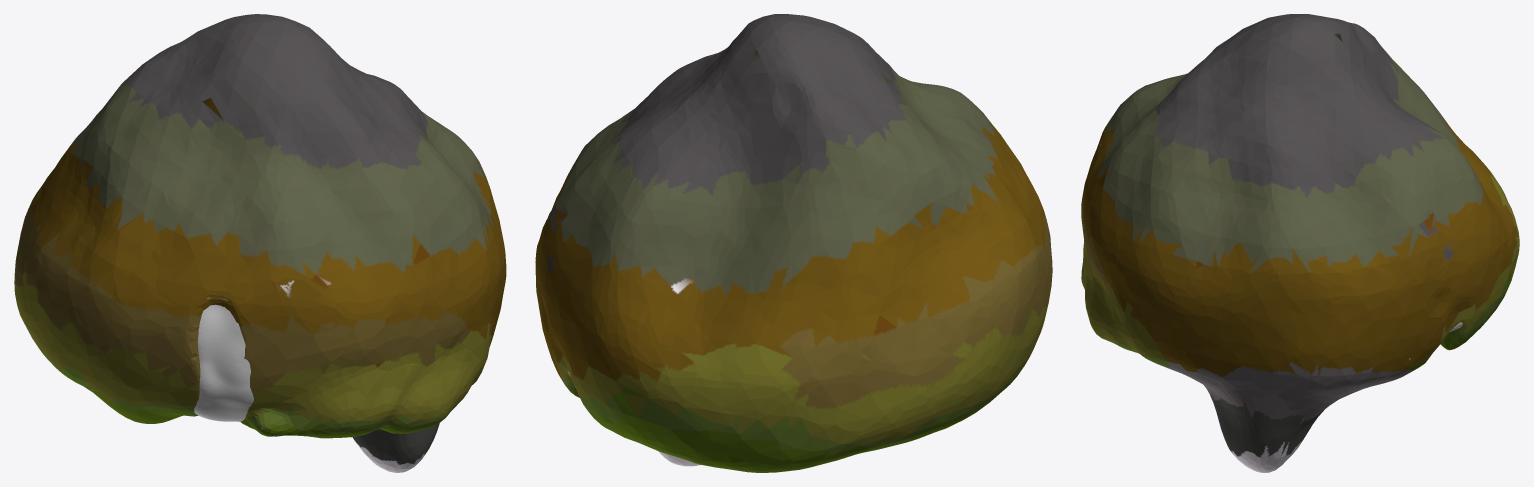
File: islandCopy.fbx
The picture shows the model from 3 angles, left to right: view 1: azimuth 30°, elevation 25°; view 2: azimuth 150°, elevation 25°; view 3: azimuth 270°, elevation 25°; orthographic projection. The views are drawn at different scales.
Visible parts, largest first — view 1: Icosphere, Plane; view 2: Icosphere; view 3: Icosphere.
Boxes of the visible parts, x1,y1,x2,y2 form: Icosphere: (14,14,506,472); Plane: (194,297,253,421); Icosphere: (535,14,1052,472); Icosphere: (1081,14,1519,472).
Size of the model in its own units: 1982 by 2062 by 2032.
2 materials, 1 textured.
